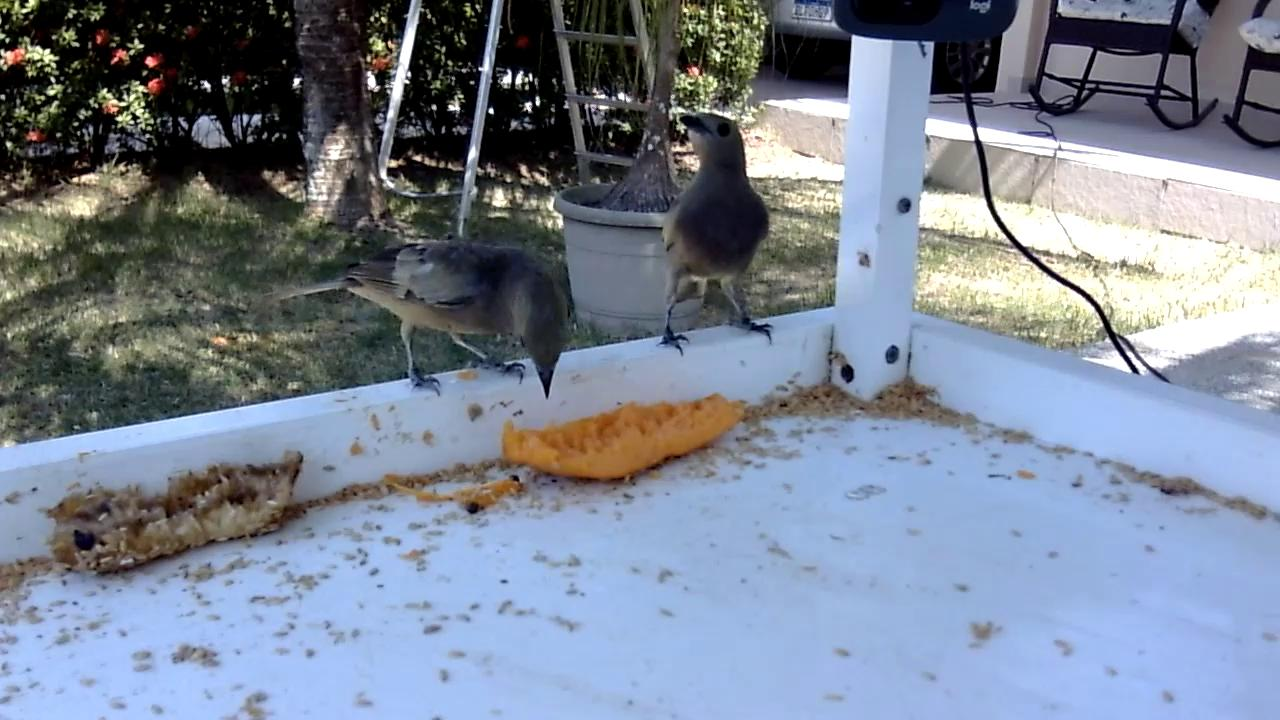sanhaco_do_coqueiro: (279, 235, 577, 403), (655, 111, 778, 362)
